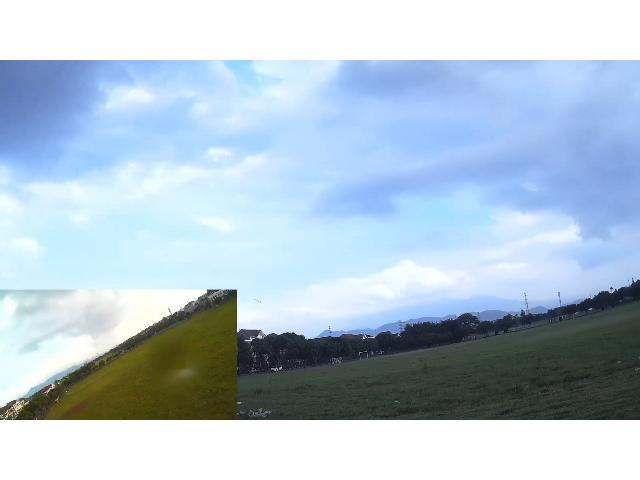Anti-Drone: (252, 296, 264, 307)
